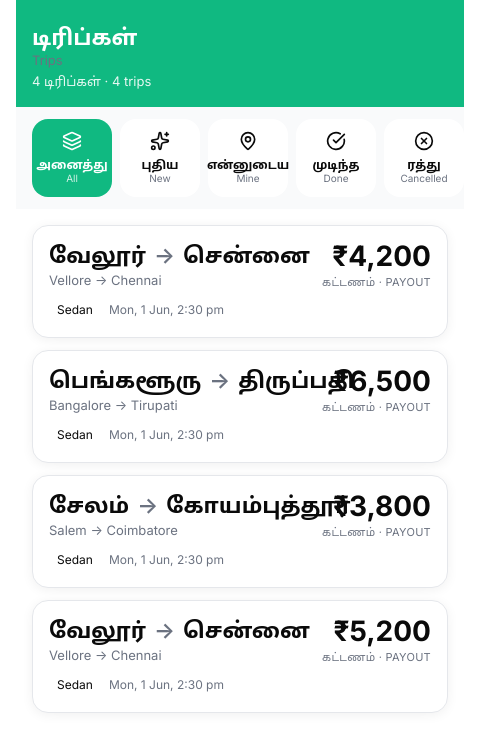
Test: BharatTripsListPage (v6) › shows empty state when filter has no matches
This screenshot has width=481, height=730.
Click the button "ரத்து Cancelled".
click(424, 158)  # box top-left (384, 119), bottom-right (464, 197)
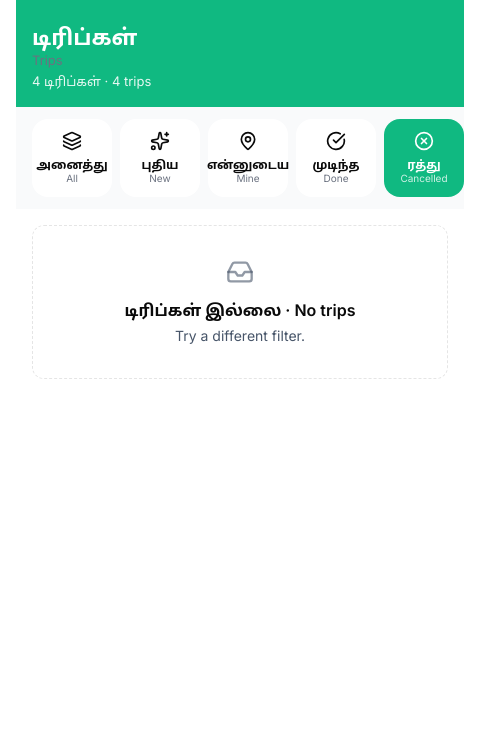
Check: the text "டிரிப்கள் இல்லை · No trips" is shown, box top-left (125, 298), bottom-right (356, 322)
